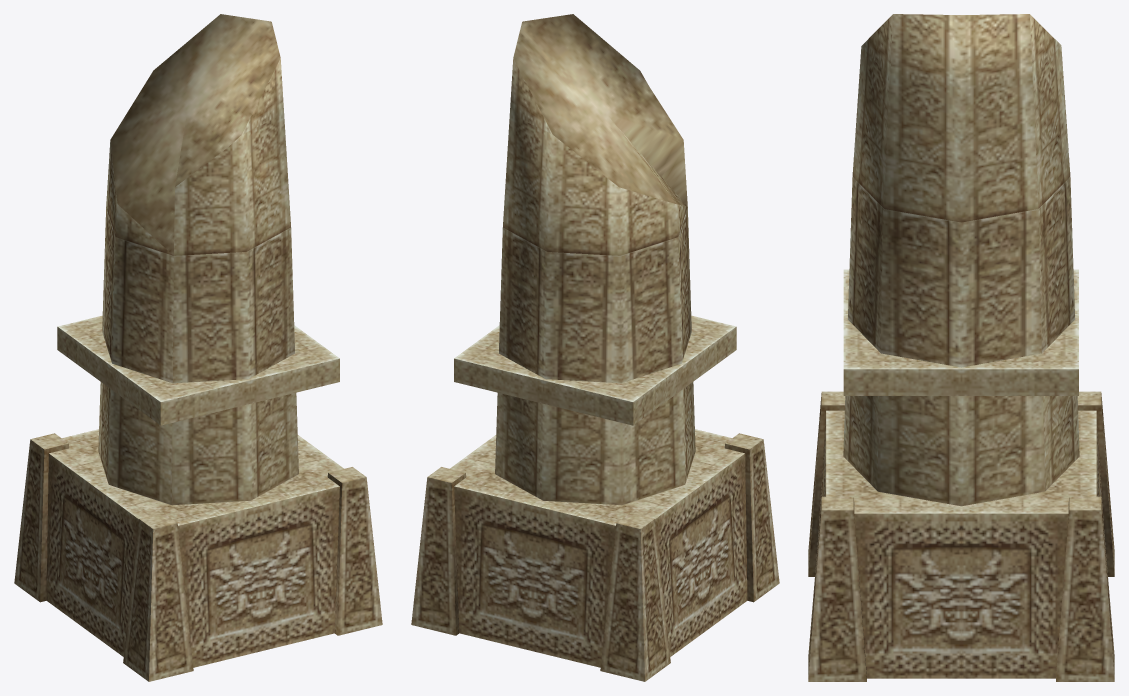
The model's file is general_obj_bigtoewr01.fbx.
3 views of the same model, side by side, from view 1: azimuth 30°, elevation 25°; view 2: azimuth 150°, elevation 25°; view 3: azimuth 270°, elevation 25° (orthographic). The views are drawn at different scales.
Visible parts, largest first — view 1: Sphere01; view 2: Sphere01; view 3: Sphere01.
Boxes of the visible parts, x1,y1,x2,y2 form: Sphere01: (14, 14, 382, 681); Sphere01: (411, 14, 779, 681); Sphere01: (808, 14, 1114, 681).
Size of the model in its own units: 5.22 by 12.05 by 5.21.
